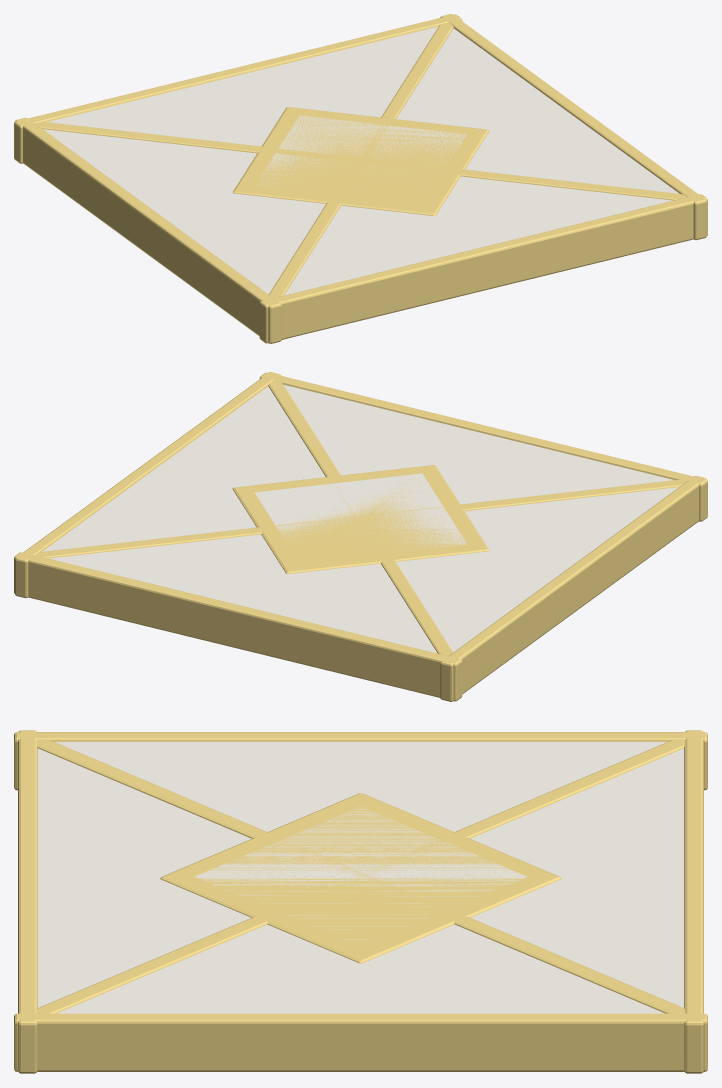
File: folded_tile.glb
3 views of the same model, one above another, from view 1: azimuth 30°, elevation 25°; view 2: azimuth 150°, elevation 25°; view 3: azimuth 270°, elevation 25° (orthographic). The views are drawn at different scales.
Parts seen in each view (by area): view 1: CenterInnerPaper, CenterDiamond; view 2: CenterInnerPaper, CenterDiamond; view 3: CenterInnerPaper, CenterDiamond.
Boxes of the visible parts, x1,y1,x2,y2 form: CenterInnerPaper: (43, 27, 679, 295); CenterDiamond: (14, 14, 707, 343); CenterInnerPaper: (42, 385, 678, 653); CenterDiamond: (14, 372, 707, 701); CenterInnerPaper: (37, 742, 684, 1013); CenterDiamond: (14, 730, 707, 1073).
Size of the model in its own units: 3.5 by 0.305 by 3.5.
